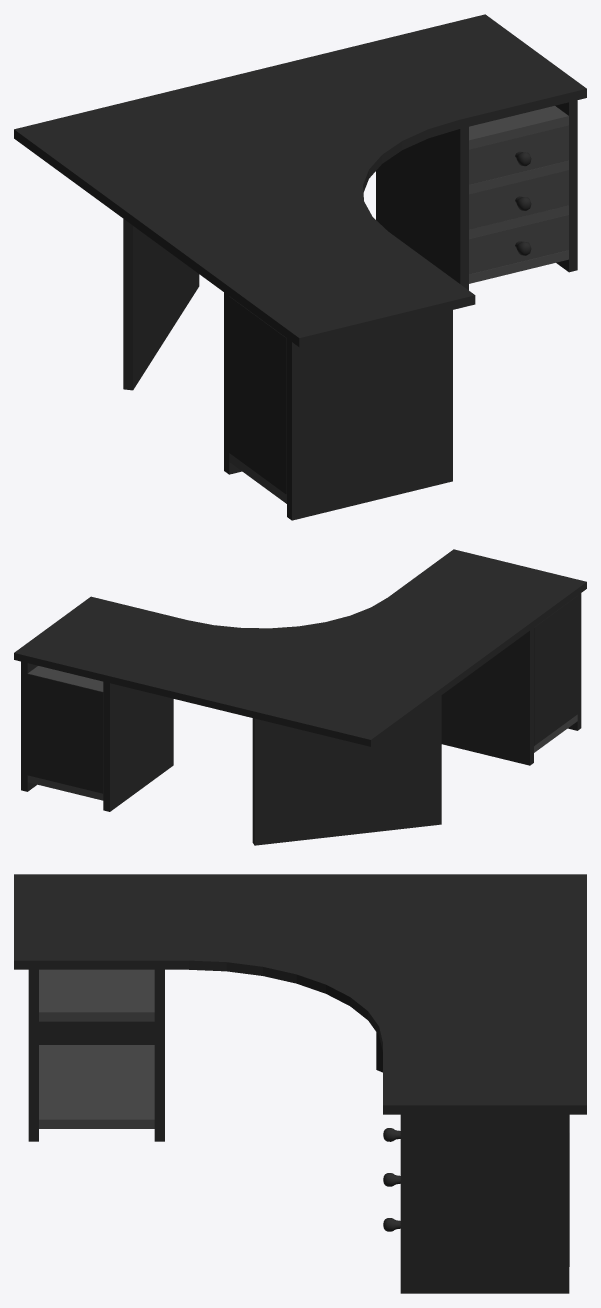
Rendered from Prop_Desk_01.fbx.
The picture shows the model from 3 angles, top to bottom: view 1: azimuth 30°, elevation 25°; view 2: azimuth 150°, elevation 25°; view 3: azimuth 270°, elevation 25°; orthographic projection. The views are drawn at different scales.
Parts seen in each view (by area): view 1: Prop_Desk_01; view 2: Prop_Desk_01; view 3: Prop_Desk_01.
Part boxes in pixels (x1,y1,x2,y2): Prop_Desk_01: (14, 14, 586, 520); Prop_Desk_01: (14, 549, 586, 845); Prop_Desk_01: (14, 874, 586, 1293).
Size of the model in its own units: 188 by 71.38 by 197.
